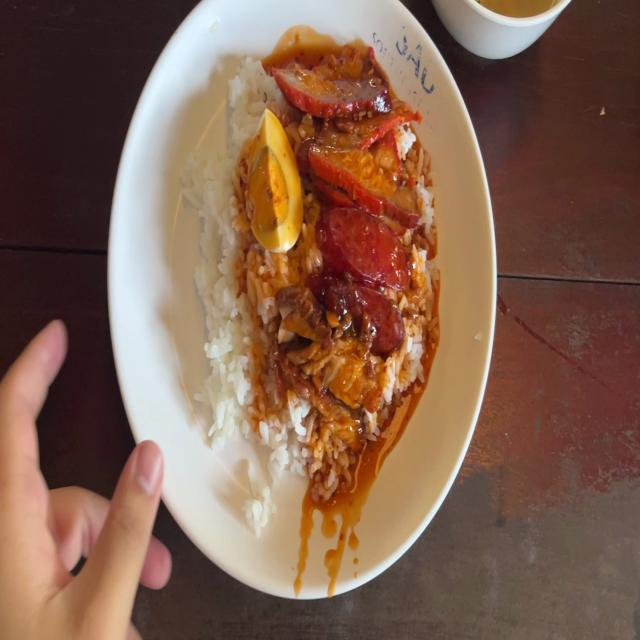01boiled_egg: (253, 126, 298, 243)
01chainese_sausage: (326, 216, 406, 330)
01crispy_pork: (312, 345, 380, 441), (284, 290, 325, 382)
01red_pork: (305, 72, 430, 215)
01red_pork_and_crispy_pork: (195, 67, 425, 479)
01rice: (204, 252, 276, 478), (192, 146, 243, 270), (232, 58, 263, 138)
